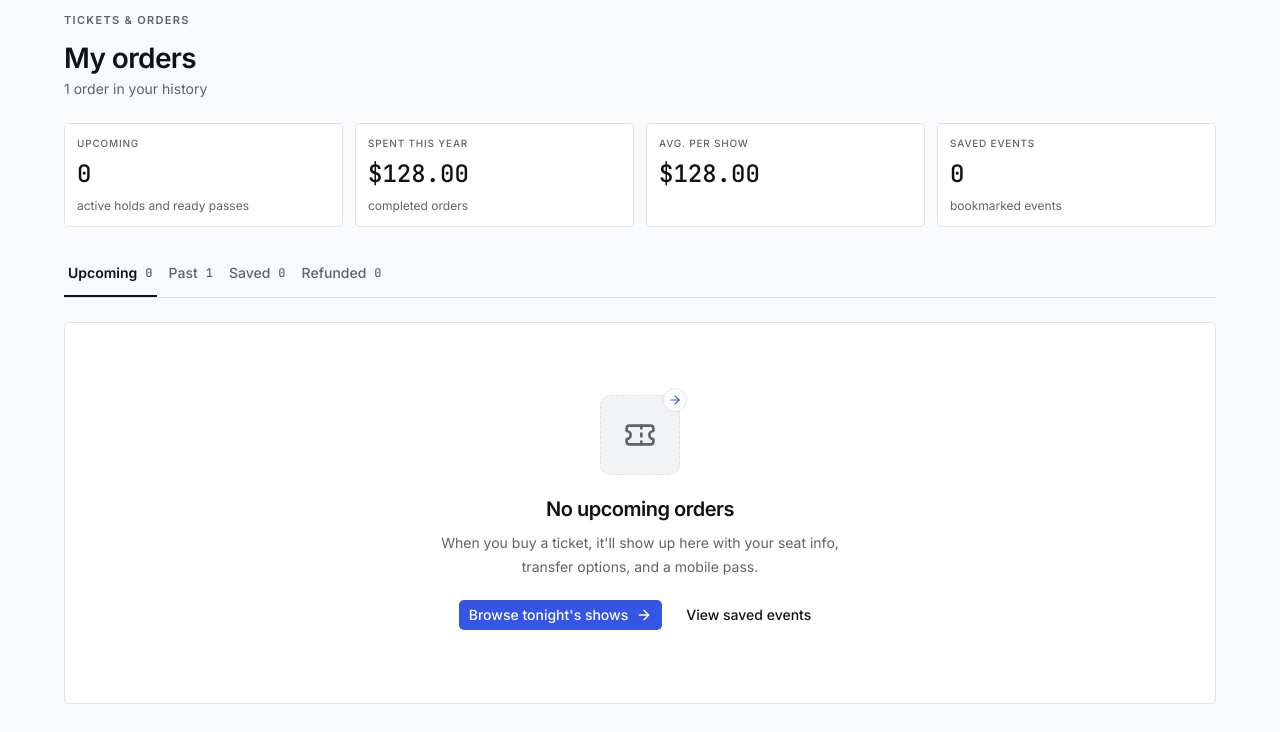
Test case: OrdersOverview › shows the empty upcoming state and lets the buyer switch to past orders
Check: the heading "No upcoming orders" is shown, box left=546, top=497, right=734, bottom=521
Check: the link "Browse tonight's shows" is shown, box left=458, top=599, right=663, bottom=631
Click the tab "Past 1" at x=191, y=274, box left=164, top=251, right=217, bottom=297
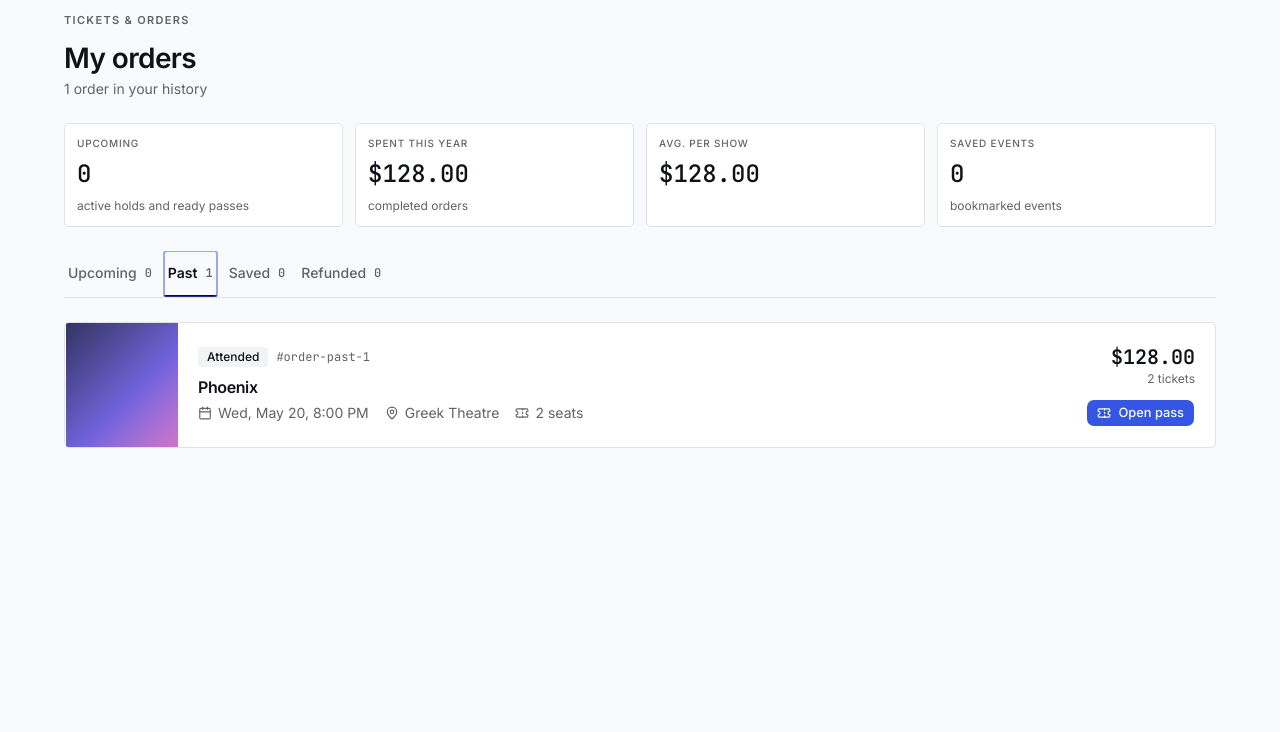
Check: the heading "Phoenix" is shown, box left=198, top=377, right=258, bottom=397
Check: the text "Greek Theatre" is shown, box left=385, top=403, right=500, bottom=423
